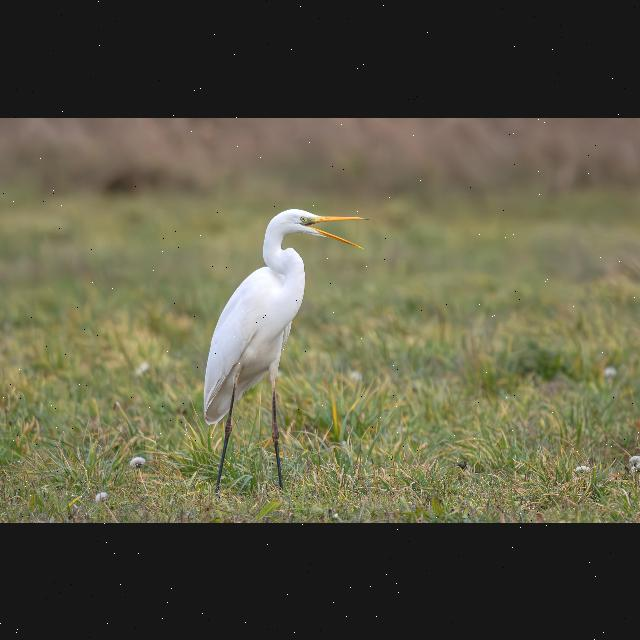egret: (192, 201, 368, 499)
